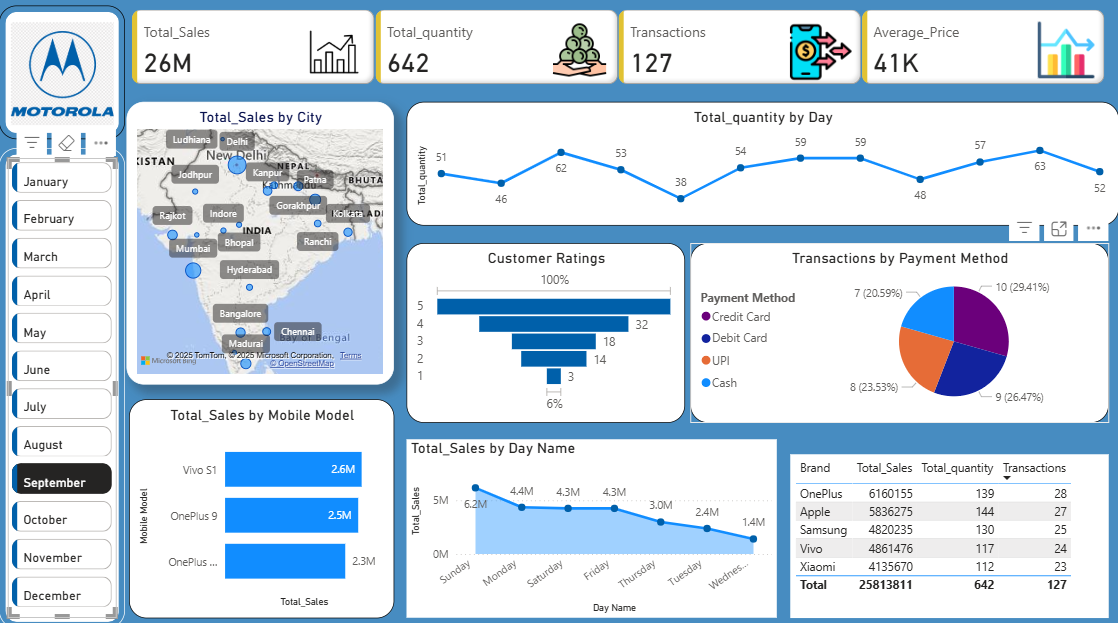

The page's visual inventory and layout, read from the dashboard file:
{"tool":"powerbi","page":{"name":"Page 1","canvas":[1280,720],"ordinal":0},"visuals":[{"type":"shape","box":[0,8.6,144.3,152.9],"z":1},{"type":"image","box":[0,22.9,144.3,127.1],"z":2},{"type":"shape","box":[0,171.4,144.3,548.6],"z":3},{"type":"advancedSlicerVisual","fields":{"Values":["Sales_Data.Date.Variation.Date Hierarchy.Month"]},"box":[10,182.9,124.3,525.7],"z":4},{"type":"cardVisual","fields":{"Data":["Sales_Data.Total_Sales","Sales_Data.Total_quantity","Sales_Data.Transactions","Sales_Data.Average_Price"]},"box":[147.1,8.6,1121.4,95.7],"z":5},{"type":"map","fields":{"Category":["Sales_Data.City"],"Size":["Sales_Data.Total_Sales"]},"box":[145.7,118.6,305.7,322.9],"z":6},{"type":"lineChart","fields":{"Category":["Sales_Data.Date.Variation.Date Hierarchy.Month","Sales_Data.Date.Variation.Date Hierarchy.Day"],"Y":["Sales_Data.Total_quantity"]},"box":[465.7,118.6,814.3,141.4],"z":7},{"type":"clusteredBarChart","fields":{"Category":["Sales_Data.Mobile Model"],"Y":["Sales_Data.Total_Sales"]},"box":[148.6,458.6,302.9,250],"z":8},{"type":"pieChart","fields":{"Category":["Sales_Data.Payment Method"],"Y":["Sales_Data.Transactions"]},"box":[790,280,478.6,205.7],"z":9},{"type":"funnel","title":"Customer Ratings","fields":{"Category":["Sales_Data.Customer Ratings"],"Y":["Sum(Sales_Data.Customer Ratings)"]},"box":[465.7,280,318.6,205.7],"z":10},{"type":"areaChart","fields":{"Category":["Sales_Data.Day Name"],"Y":["Sales_Data.Total_Sales"]},"box":[465.7,504.3,422.9,204.3],"z":11},{"type":"tableEx","fields":{"Values":["Sales_Data.Brand","Sales_Data.Total_Sales","Sales_Data.Total_quantity","Sales_Data.Transactions"]},"box":[904.3,521.4,364.3,187.1],"z":12}]}

Visuals, with their boxes in screenshot pixels (x1, y1, x2, y2):
shape: (x1=0, y1=0, x2=122, y2=134)
image: (x1=0, y1=12, x2=122, y2=124)
shape: (x1=0, y1=143, x2=122, y2=622)
advancedSlicerVisual - Sales_Data.Date.Variation.Date Hierarchy.Month: (x1=3, y1=153, x2=113, y2=618)
cardVisual - Sales_Data.Total_Sales x Sales_Data.Total_quantity: (x1=124, y1=0, x2=1116, y2=84)
map - Sales_Data.City x Sales_Data.Total_Sales: (x1=123, y1=96, x2=394, y2=382)
lineChart - Sales_Data.Date.Variation.Date Hierarchy.Month x Sales_Data.Date.Variation.Date Hierarchy.Day: (x1=406, y1=96, x2=1117, y2=221)
clusteredBarChart - Sales_Data.Mobile Model x Sales_Data.Total_Sales: (x1=126, y1=397, x2=394, y2=618)
pieChart - Sales_Data.Payment Method x Sales_Data.Transactions: (x1=693, y1=239, x2=1117, y2=421)
"Customer Ratings" funnel: (x1=406, y1=239, x2=688, y2=421)
areaChart - Sales_Data.Day Name x Sales_Data.Total_Sales: (x1=406, y1=437, x2=780, y2=618)
tableEx - Sales_Data.Brand x Sales_Data.Total_Sales: (x1=794, y1=453, x2=1117, y2=618)
